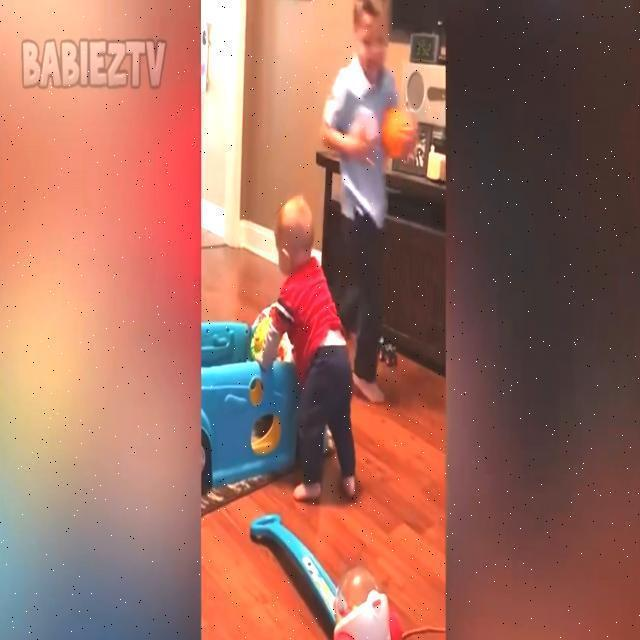child: (252, 198, 359, 504)
